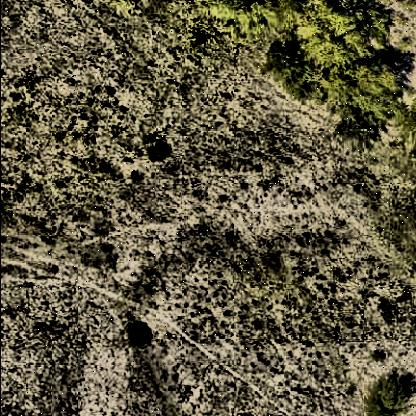tree-top: (332, 59, 404, 151), (294, 1, 392, 67), (266, 45, 314, 102), (202, 1, 289, 30), (367, 371, 411, 416)
